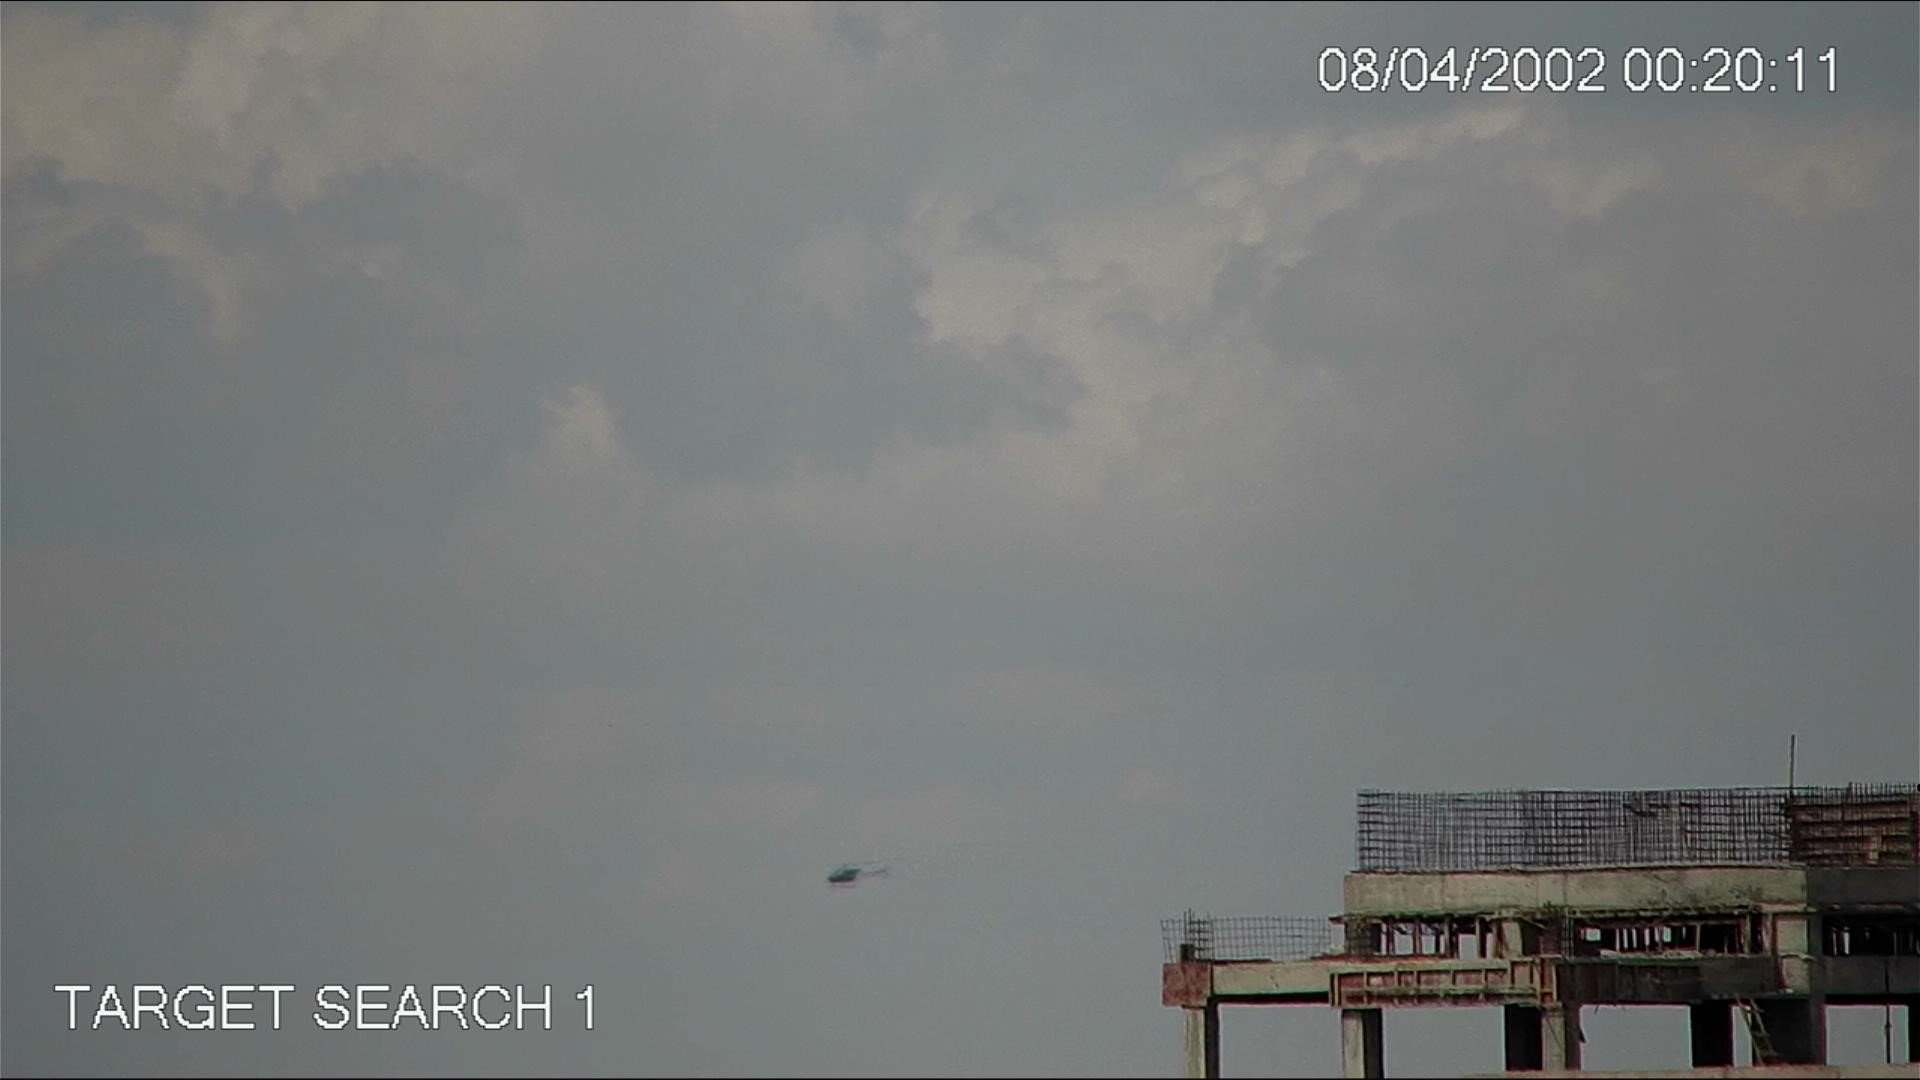SU_30: (820, 856, 891, 887)
